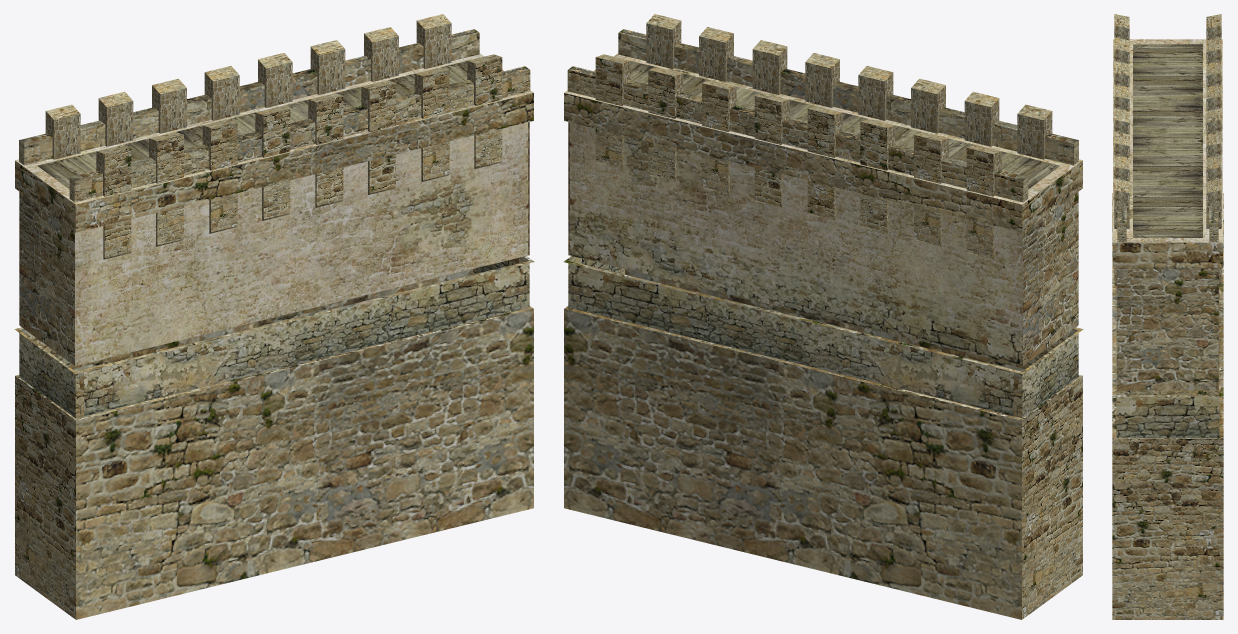
The model's file is athen_wall_medium.dae.
The picture shows the model from 3 angles, left to right: view 1: azimuth 30°, elevation 25°; view 2: azimuth 150°, elevation 25°; view 3: azimuth 270°, elevation 25°; orthographic projection. The views are drawn at different scales.
Parts seen in each view (by area): view 1: athen_wall_medium; view 2: athen_wall_medium; view 3: athen_wall_medium.
Part boxes in pixels (bbox=[...]): athen_wall_medium: bbox=[14, 14, 534, 619]; athen_wall_medium: bbox=[563, 14, 1083, 619]; athen_wall_medium: bbox=[1112, 14, 1223, 619].
Bounding box in the file's own units: 24.24 × 5.61 × 23.08.
